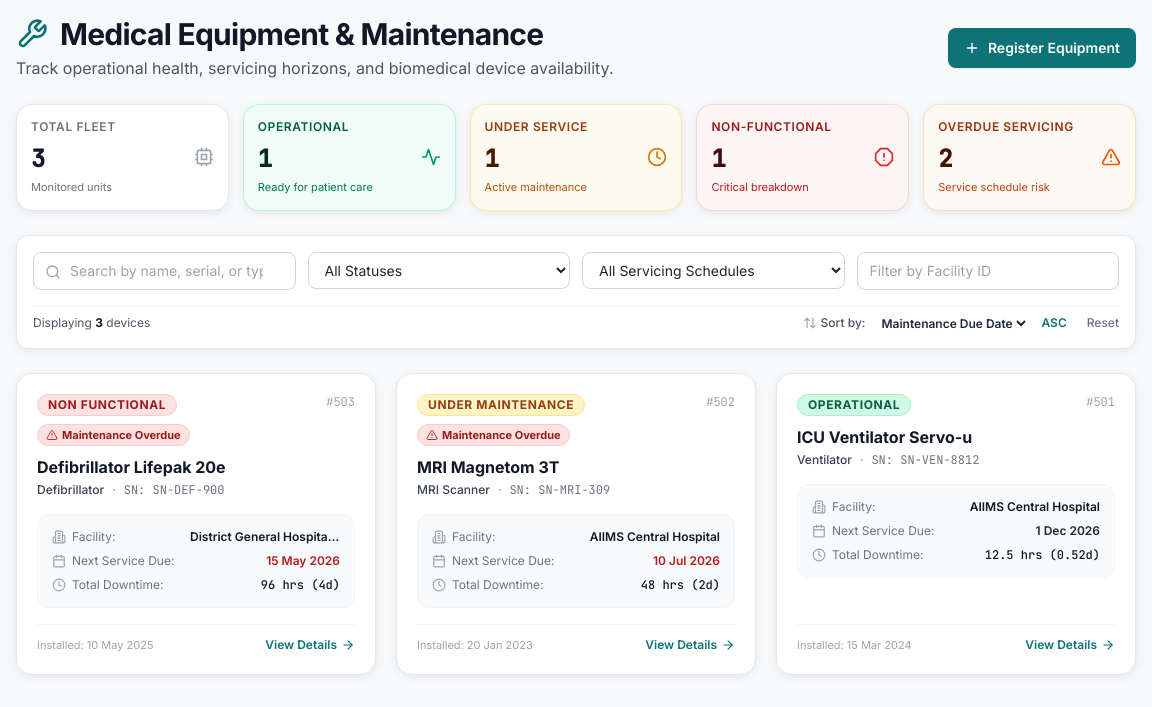
Test: PHASE 24 — Equipment & Maintenance Module › Equipment Directory List View (/equipment) › allows authorized admin to register new medical equipment
The image size is (1152, 707).
Click the button with test id "register-equipment-btn" at (1042, 48), box [948,28,1136,68]
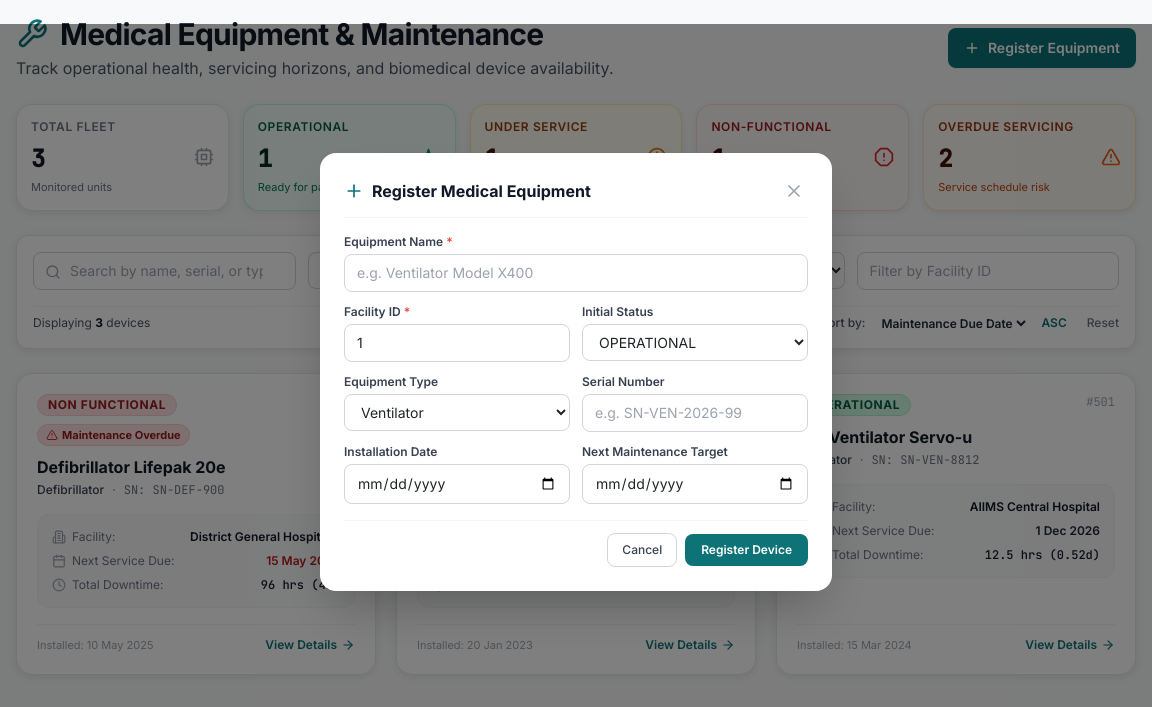
Type "Autoclave Sterilizer Class B" into the field with test id "create-equipment-name-input" at (576, 273), box [344,254,808,292]
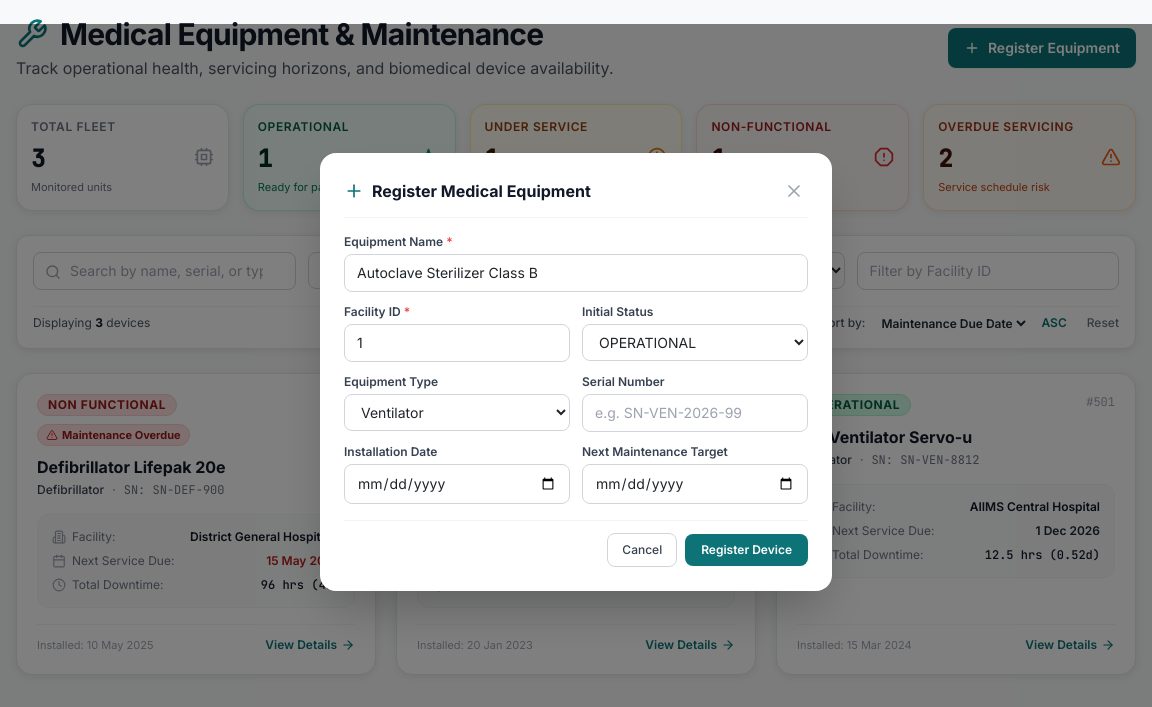
Type "SN-AUTO-101" into the field with test id "create-equipment-serial-input" at (695, 413), box [582,394,808,432]
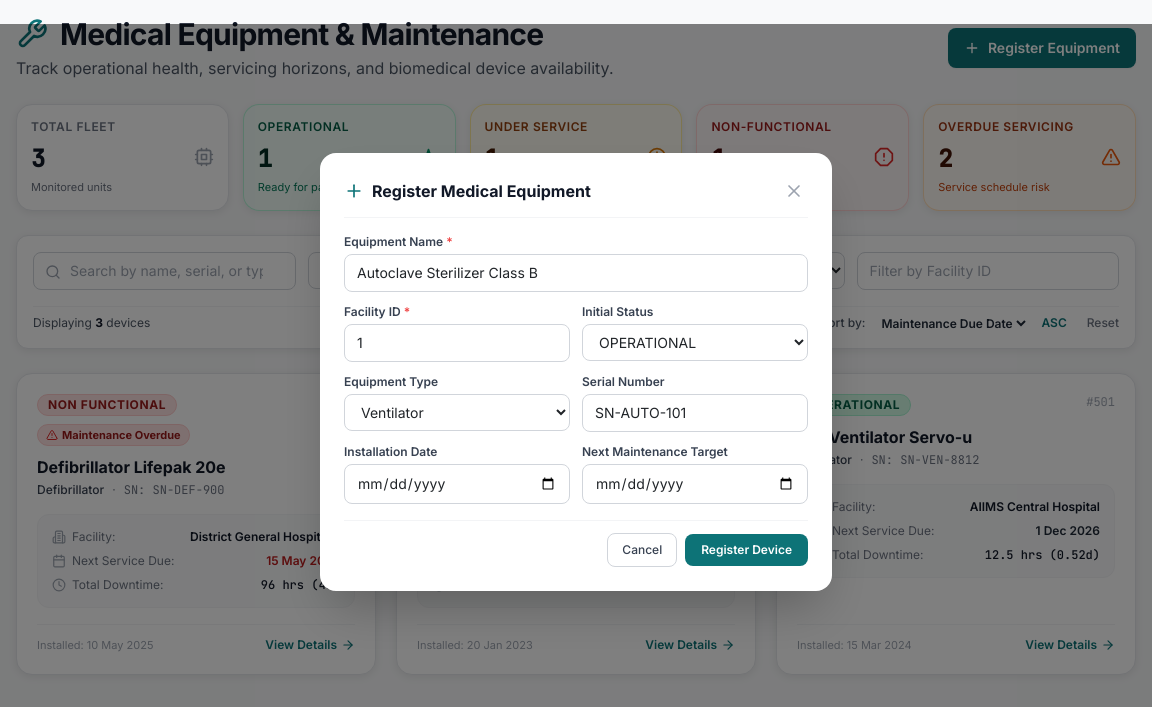
Type "2027-03-01" into the date field with test id "create-equipment-next-due-input" at (695, 484), box [582,464,808,504]
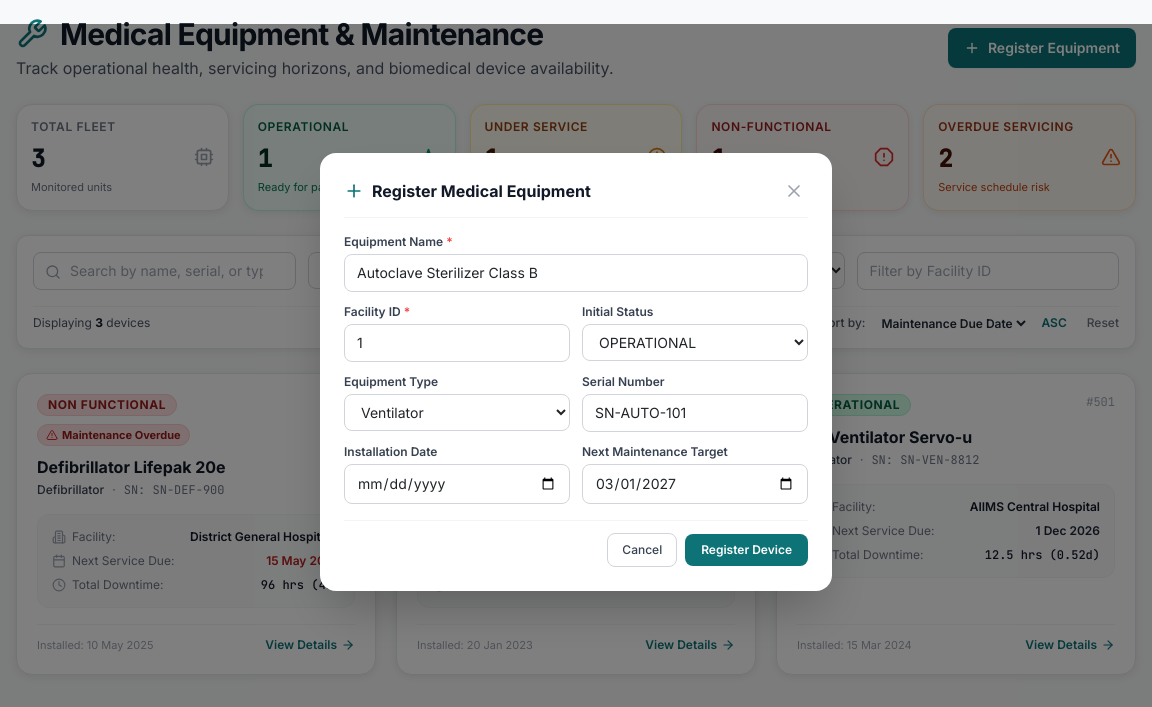
Click the button with test id "create-equipment-submit" at (747, 550), box [685,534,808,566]
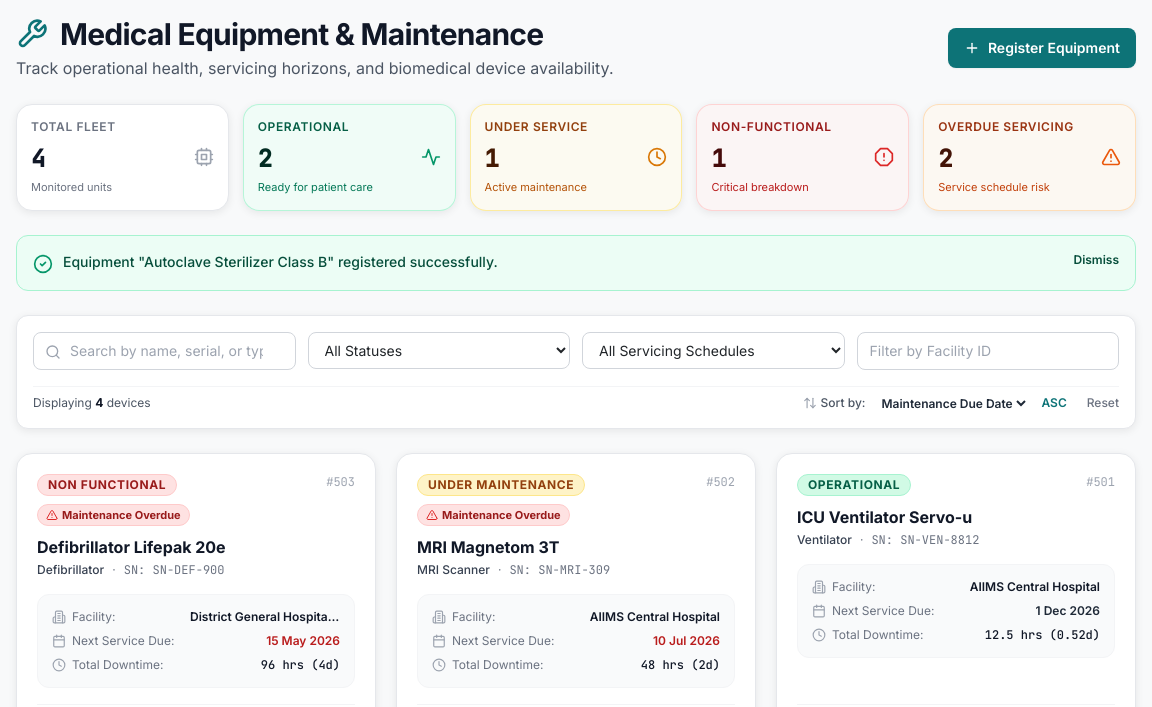
Expected: the element with test id "equipment-feedback-banner" shows "registered successfully", [63,252,498,270]
